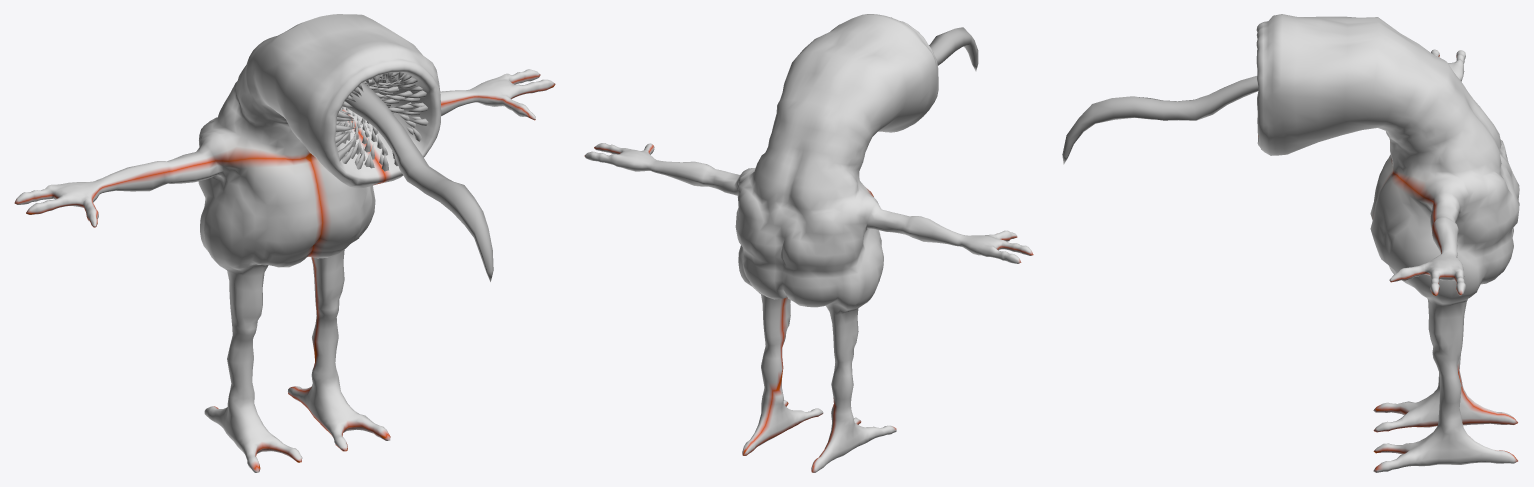
File: monster.fbx
3 views of the same model, side by side, from view 1: azimuth 30°, elevation 25°; view 2: azimuth 150°, elevation 25°; view 3: azimuth 270°, elevation 25° (orthographic). The views are drawn at different scales.
Parts seen in each view (by area): view 1: pCube10_01_SeamsColor, pCylinder10_01, group1_pasted__group10_pCone1; view 2: pCube10_01_SeamsColor, pCylinder10_01; view 3: pCube10_01_SeamsColor, pCylinder10_01.
Part boxes in pixels (left/top/right/bottom): pCube10_01_SeamsColor: left=14, top=14, right=555, bottom=472; pCylinder10_01: left=345, top=82, right=493, bottom=281; group1_pasted__group10_pCone1: left=335, top=72, right=428, bottom=171; pCube10_01_SeamsColor: left=584, top=14, right=1033, bottom=472; pCylinder10_01: left=929, top=27, right=978, bottom=71; pCube10_01_SeamsColor: left=1256, top=14, right=1519, bottom=472; pCylinder10_01: left=1062, top=76, right=1258, bottom=164.
Bounding box in the file's own units: 23.39 × 18.94 × 18.55.
